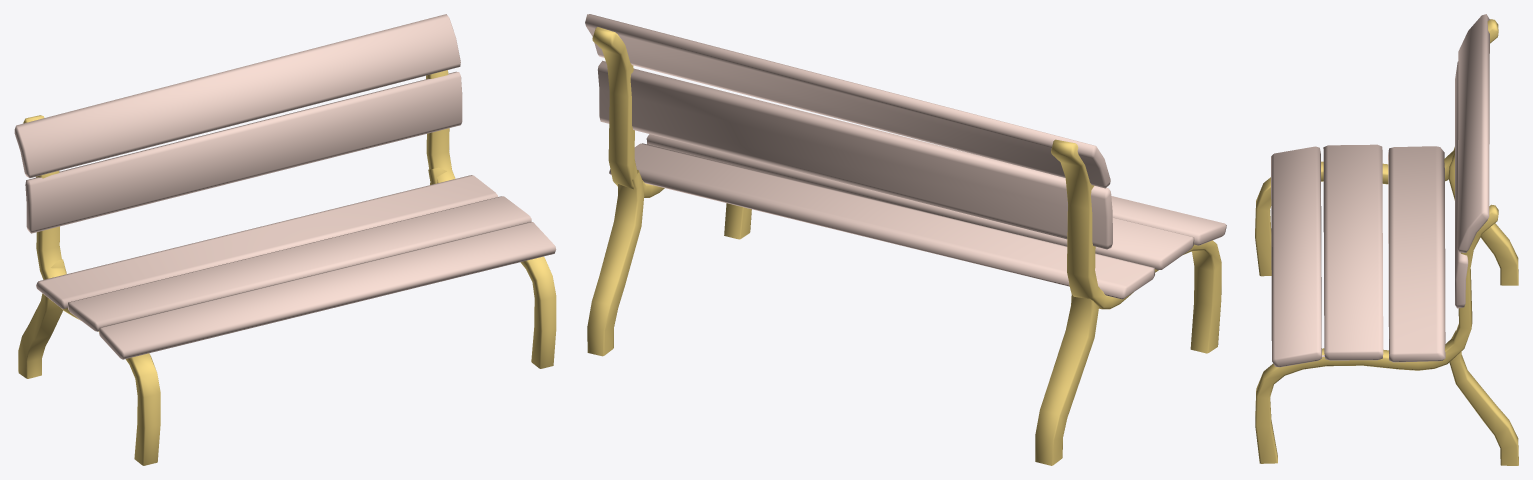
Rendered from College Bench.fbx.
The picture shows the model from 3 angles, left to right: view 1: azimuth 30°, elevation 25°; view 2: azimuth 150°, elevation 25°; view 3: azimuth 270°, elevation 25°; orthographic projection. The views are drawn at different scales.
Parts seen in each view (by area): view 1: CollegeBench.001; view 2: CollegeBench.001; view 3: CollegeBench.001.
Boxes of the visible parts, x1,y1,x2,y2 form: CollegeBench.001: (14, 14, 556, 465); CollegeBench.001: (585, 14, 1226, 465); CollegeBench.001: (1255, 14, 1518, 465).
Size of the model in its own units: 163 by 96.3 by 87.62.
